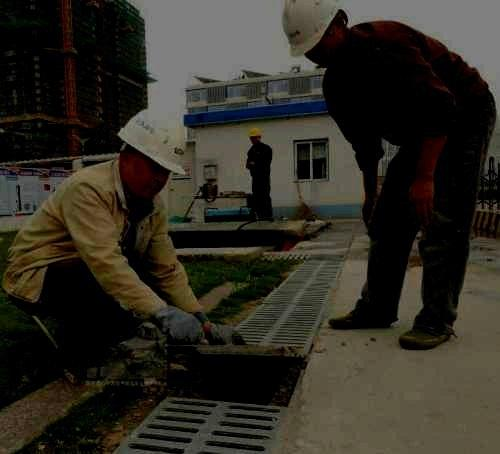helmet: (116, 107, 187, 201), (281, 1, 349, 69), (247, 127, 263, 145)
